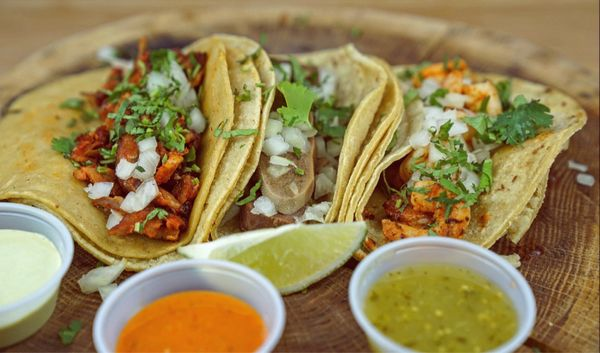curry: (466, 98, 555, 145)
sushi: (348, 235, 536, 351), (93, 258, 286, 350), (0, 201, 75, 348)
